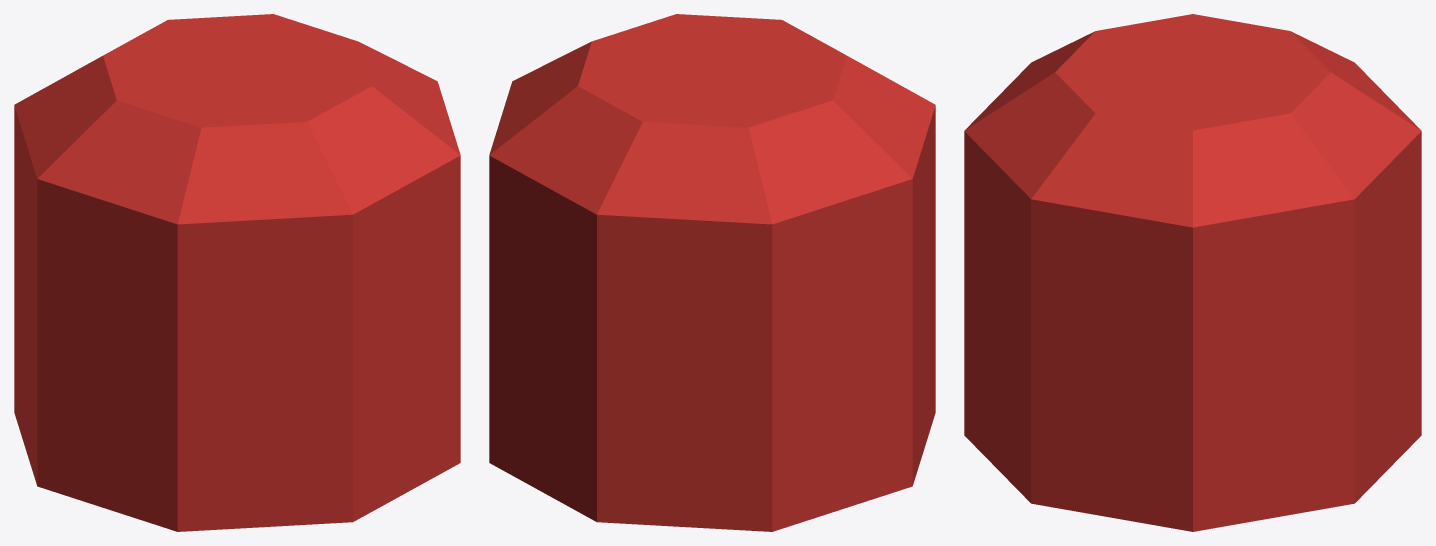
File: button-top.fbx
3 renders of one model, left to right at view 1: azimuth 30°, elevation 25°; view 2: azimuth 150°, elevation 25°; view 3: azimuth 270°, elevation 25°, orthographic.
Parts seen in each view (by area): view 1: button-top; view 2: button-top; view 3: button-top.
Boxes of the visible parts, x1,y1,x2,y2 form: button-top: (14, 14, 460, 531); button-top: (489, 14, 935, 531); button-top: (964, 14, 1421, 531).
Size of the model in its own units: 43.95 by 38.47 by 43.95.
